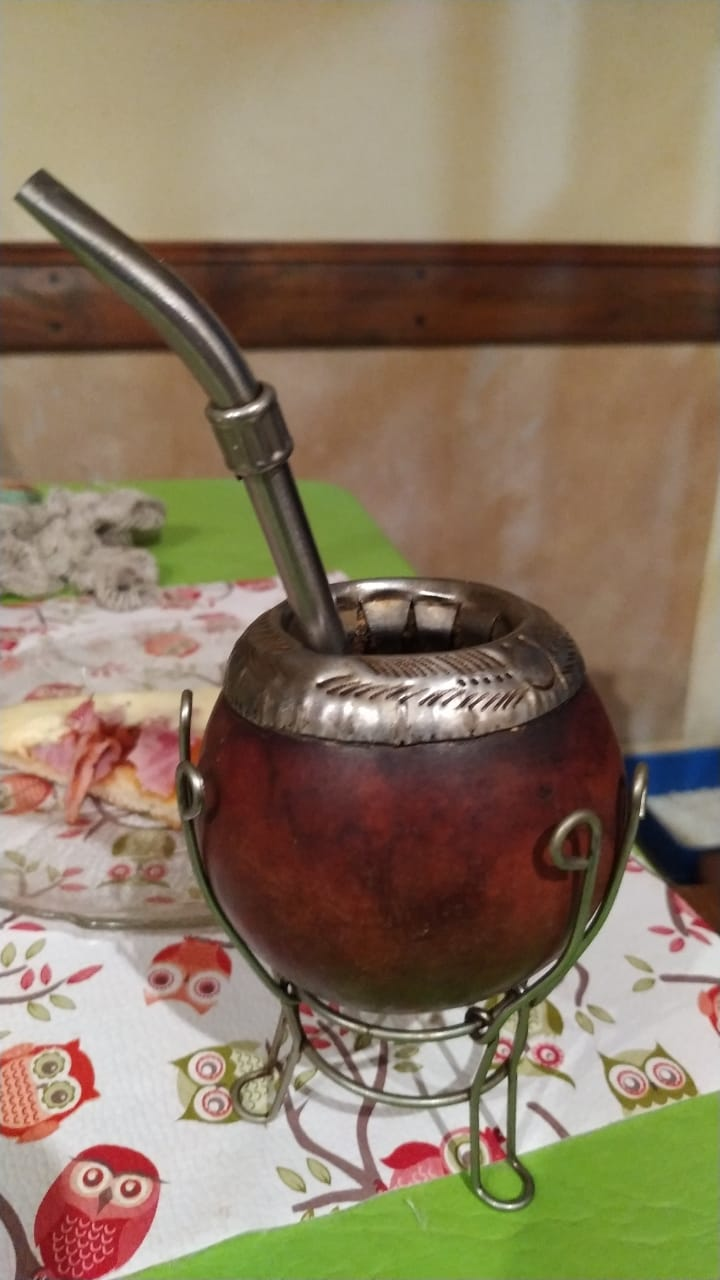calabaza: (5, 157, 653, 1220)
mate: (7, 159, 655, 1222)
